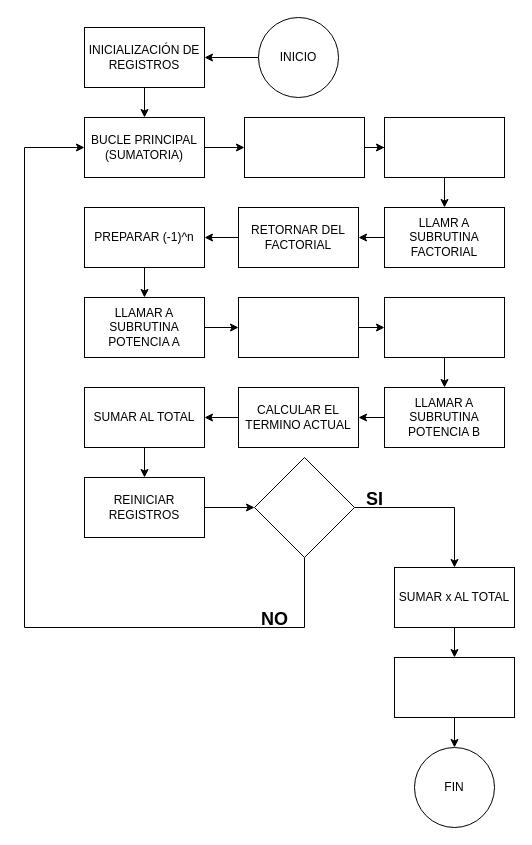
The diagram is 532 pixels wide and 845 high, and some of its shapes have lost their labels. Each missing label, with the box of its shape:
BUCLE INFINITO: (394, 656, 514, 718)
CALCULAR (2n+1): (384, 116, 504, 178)
INCREMENTAR n: (244, 116, 364, 178)
PREPARAR x^(2n+1): (384, 296, 504, 358)
RETORNAR DE POTENCIA A: (238, 296, 358, 358)
¿n == IREACIONES?: (254, 456, 354, 558)
